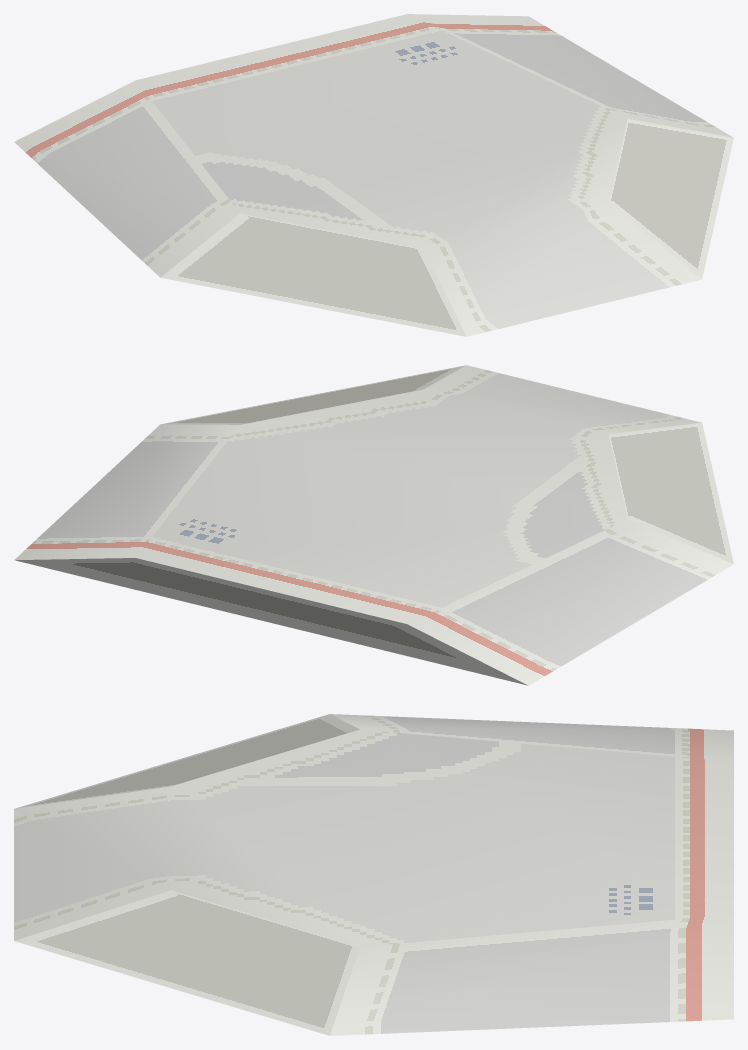
The model's file is 033e_Briefs.glb.
The picture shows the model from 3 angles, top to bottom: view 1: azimuth 30°, elevation 25°; view 2: azimuth 150°, elevation 25°; view 3: azimuth 270°, elevation 25°; orthographic projection. The views are drawn at different scales.
Visible parts, largest first — view 1: part_0; view 2: part_0; view 3: part_0.
Part boxes in pixels (<box>): part_0: <box>14,14,733,336</box>; part_0: <box>14,365,733,685</box>; part_0: <box>14,714,733,1035</box>.
Size of the model in its own units: 0.282 by 0.015 by 0.2665.
Materials: 1 (1 with a texture image).
